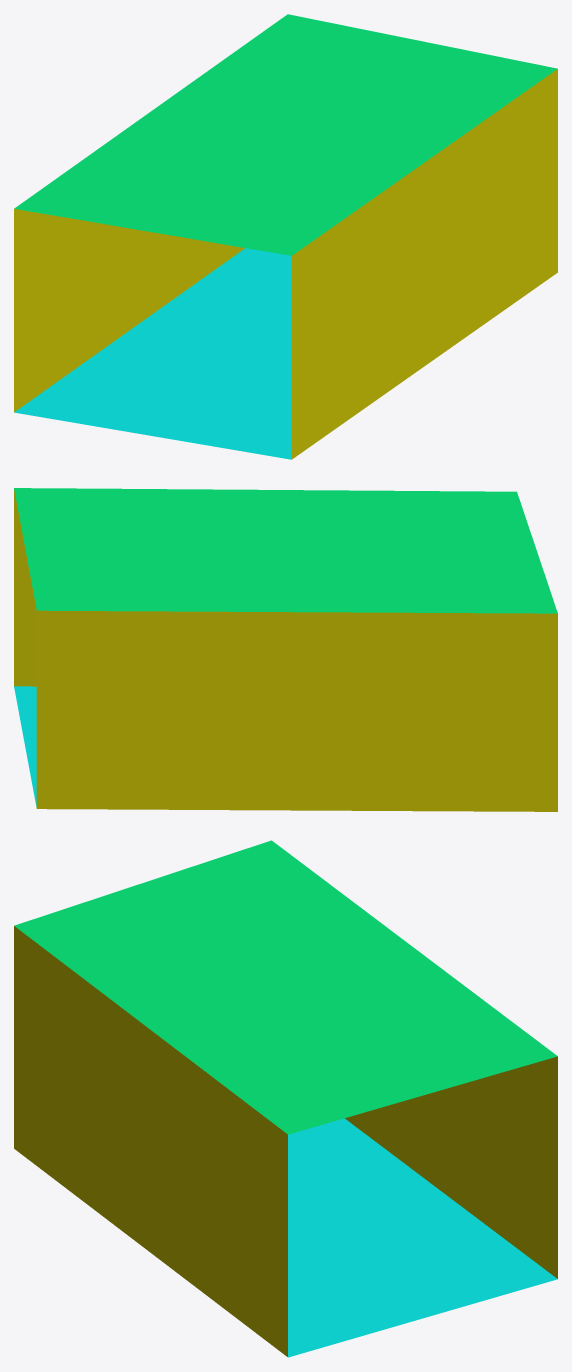
The model's file is NeutralR-Corridor-FantasyF.fbx.
The picture shows the model from 3 angles, top to bottom: view 1: azimuth 30°, elevation 25°; view 2: azimuth 150°, elevation 25°; view 3: azimuth 270°, elevation 25°; orthographic projection. The views are drawn at different scales.
Parts seen in each view (by area): view 1: Museum_complete_Blockout:Corridor1; view 2: Museum_complete_Blockout:Corridor1; view 3: Museum_complete_Blockout:Corridor1.
Boxes of the visible parts, <box> form: Museum_complete_Blockout:Corridor1: <box>14,14,557,459</box>; Museum_complete_Blockout:Corridor1: <box>14,488,557,811</box>; Museum_complete_Blockout:Corridor1: <box>14,840,557,1357</box>.
Bounding box in the file's own units: 2914 × 1029 × 2276.
